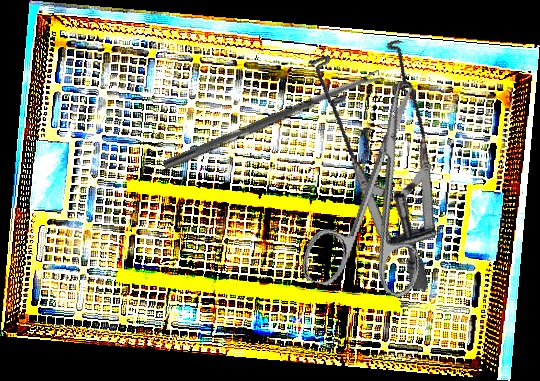Iris Scissors: (298, 70, 465, 308)
Speculum: (250, 15, 499, 293)
Surgical Spoon: (162, 69, 383, 172)
